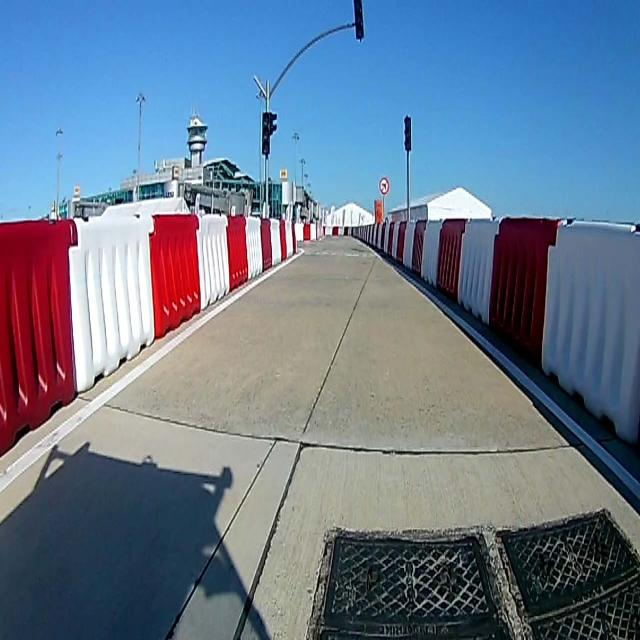soladonulmez: (379, 177, 389, 195)
